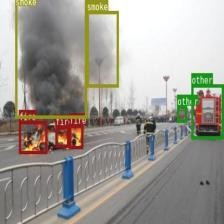fire: (18, 120, 47, 153), (69, 124, 83, 148), (55, 126, 69, 147)
smoke: (15, 0, 87, 117), (86, 11, 118, 87)
